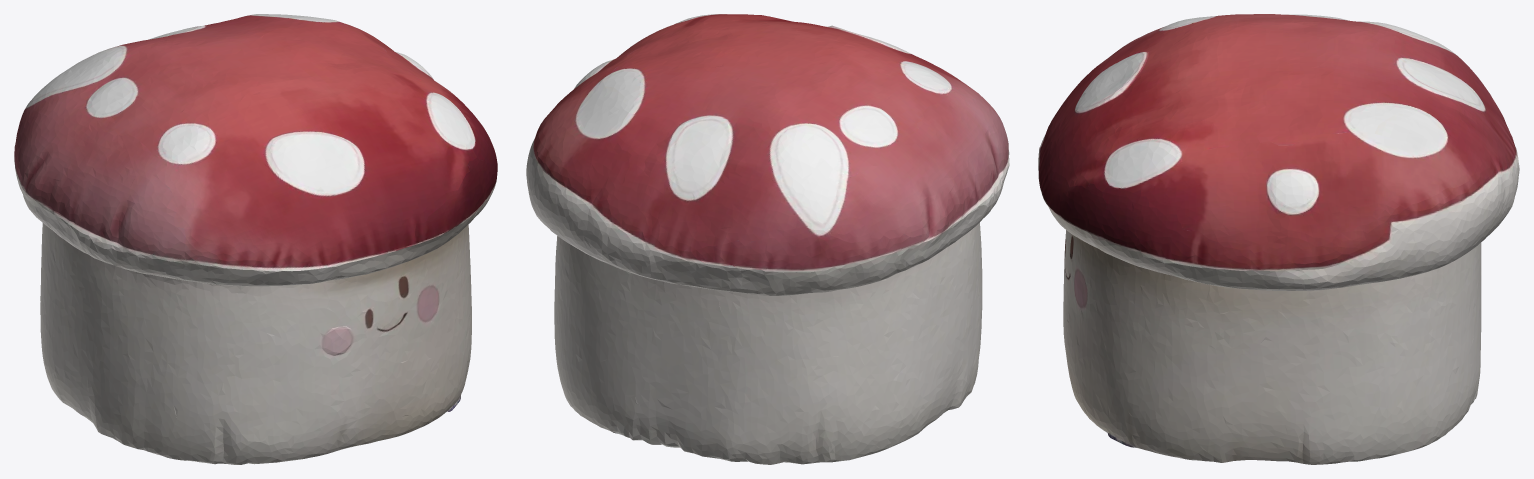
3 renders of one model, left to right at view 1: azimuth 30°, elevation 25°; view 2: azimuth 150°, elevation 25°; view 3: azimuth 270°, elevation 25°, orthographic. The views are drawn at different scales.
Visible parts, largest first — view 1: geometry_0; view 2: geometry_0; view 3: geometry_0.
Part boxes in pixels (<box>): geometry_0: <box>14,14,497,464</box>; geometry_0: <box>526,14,1009,464</box>; geometry_0: <box>1038,14,1519,464</box>.
Size of the model in its own units: 0.9856 by 0.7647 by 0.9993.
Materials: 1 (1 with a texture image).
